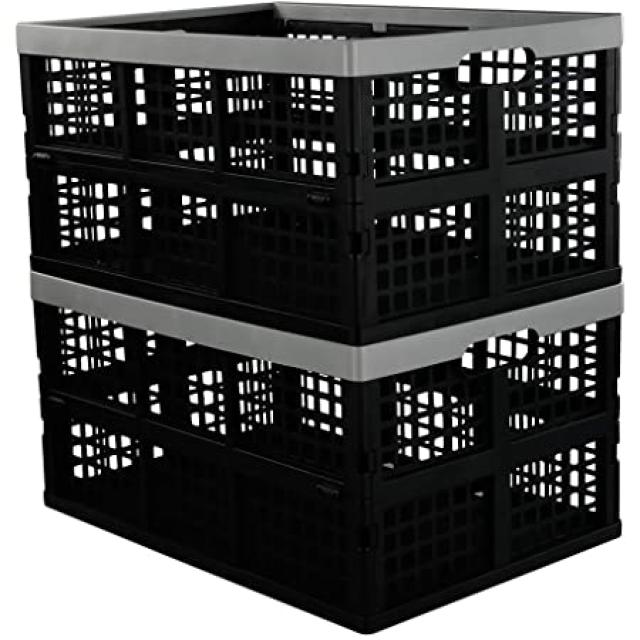basket: (21, 3, 622, 634)
